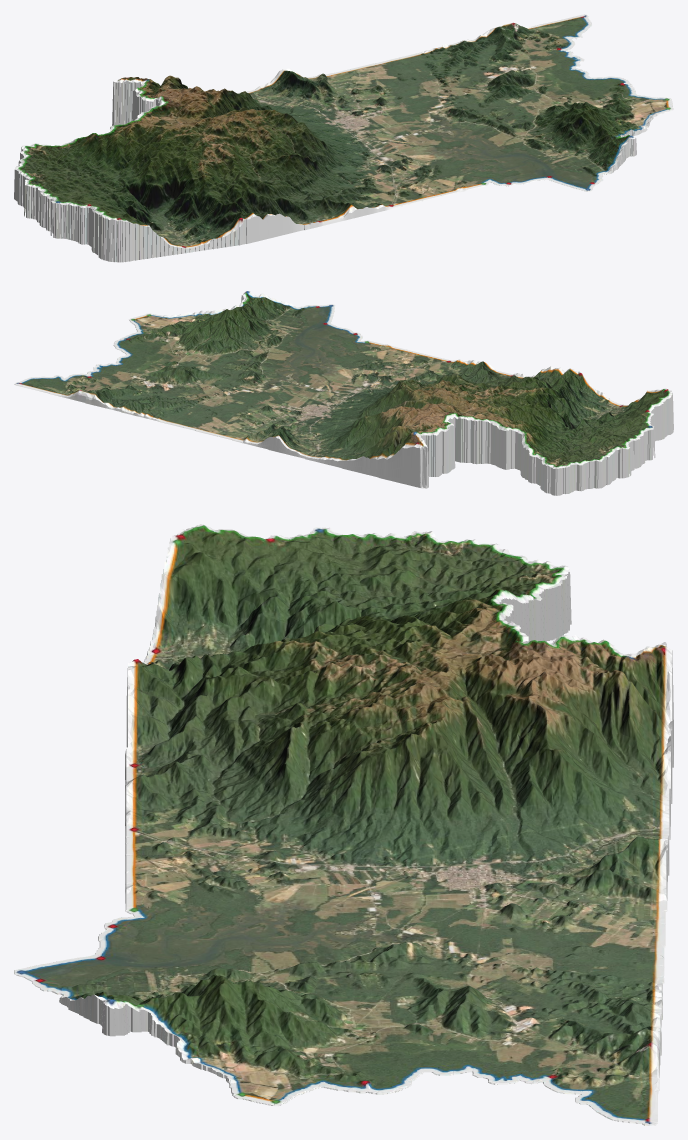
The picture shows the model from 3 angles, top to bottom: view 1: azimuth 30°, elevation 25°; view 2: azimuth 150°, elevation 25°; view 3: azimuth 270°, elevation 25°; orthographic projection. The views are drawn at different scales.
Bounding box in the file's own units: 0.9997 × 0.0803 × 0.5171.
1 material, 1 textured.
